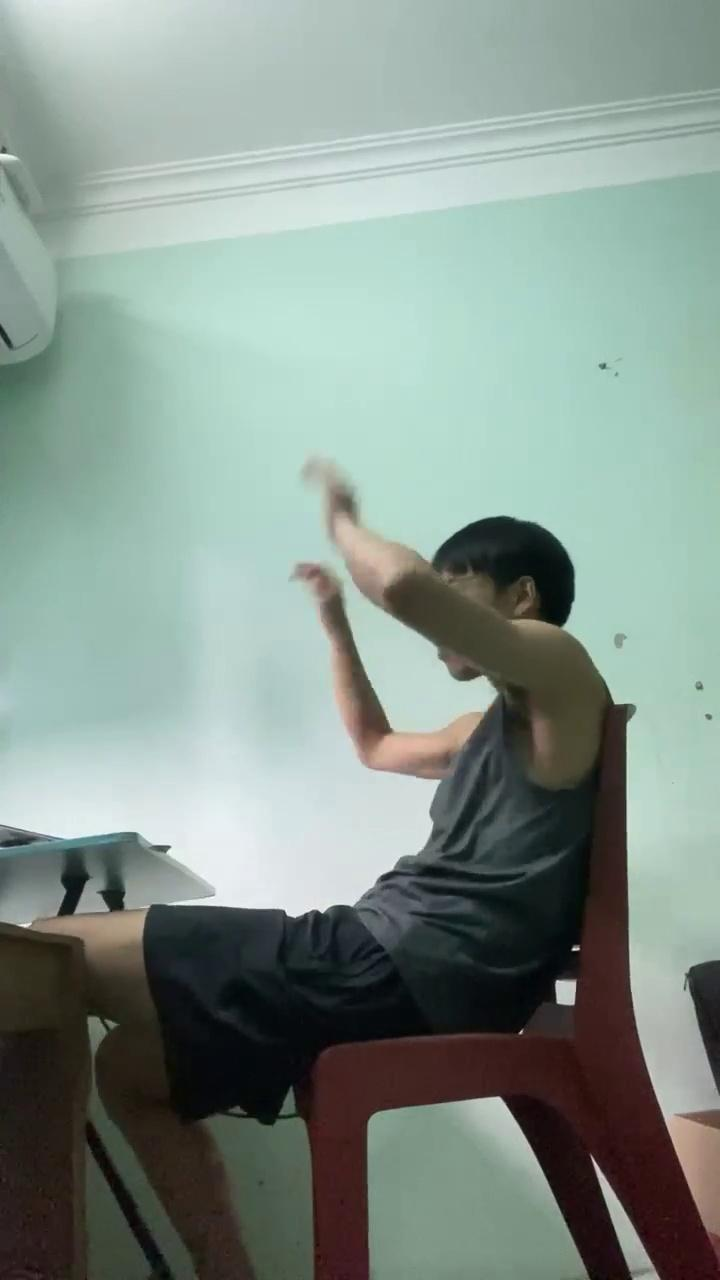BadPosture: (23, 460, 609, 1279)
